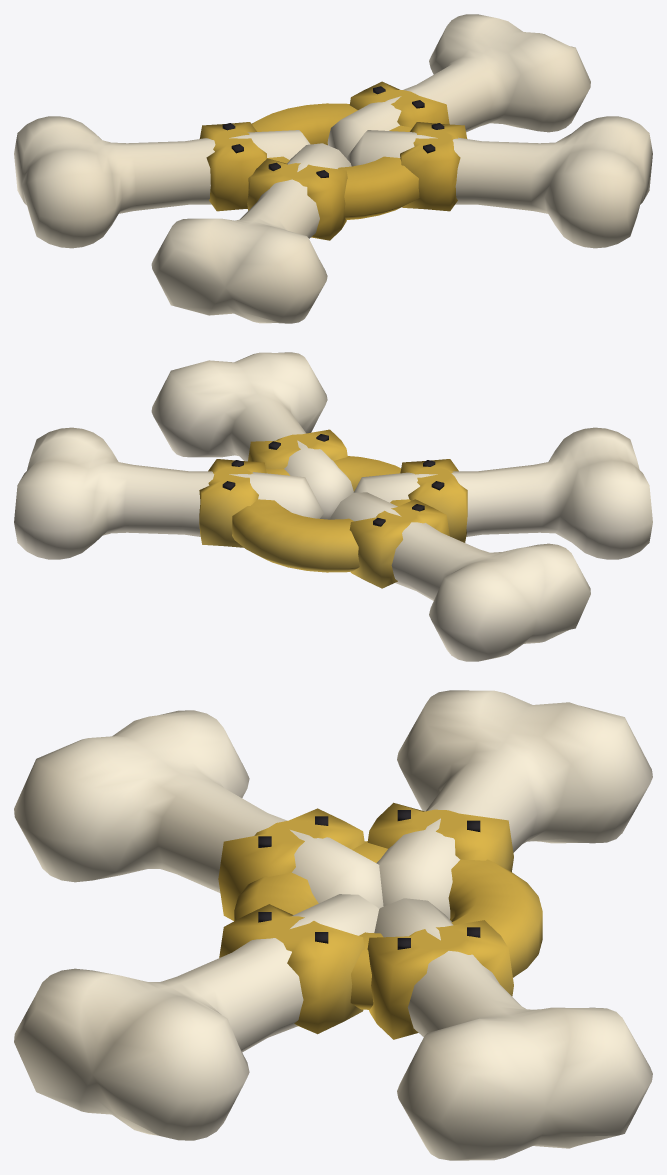
File: poe-fuma.glb
3 views of the same model, one above another, from view 1: azimuth 30°, elevation 25°; view 2: azimuth 150°, elevation 25°; view 3: azimuth 270°, elevation 25° (orthographic). The views are drawn at different scales.
Visible parts, largest first — view 1: poe_fuma; view 2: poe_fuma; view 3: poe_fuma.
Boxes of the visible parts, left/top/right/bottom form: poe_fuma: left=14, top=14, right=652, bottom=323; poe_fuma: left=14, top=352, right=652, bottom=661; poe_fuma: left=14, top=690, right=652, bottom=1160.
Size of the model in its own units: 0.8014 by 0.1246 by 0.5536.
1 material, 1 textured.
